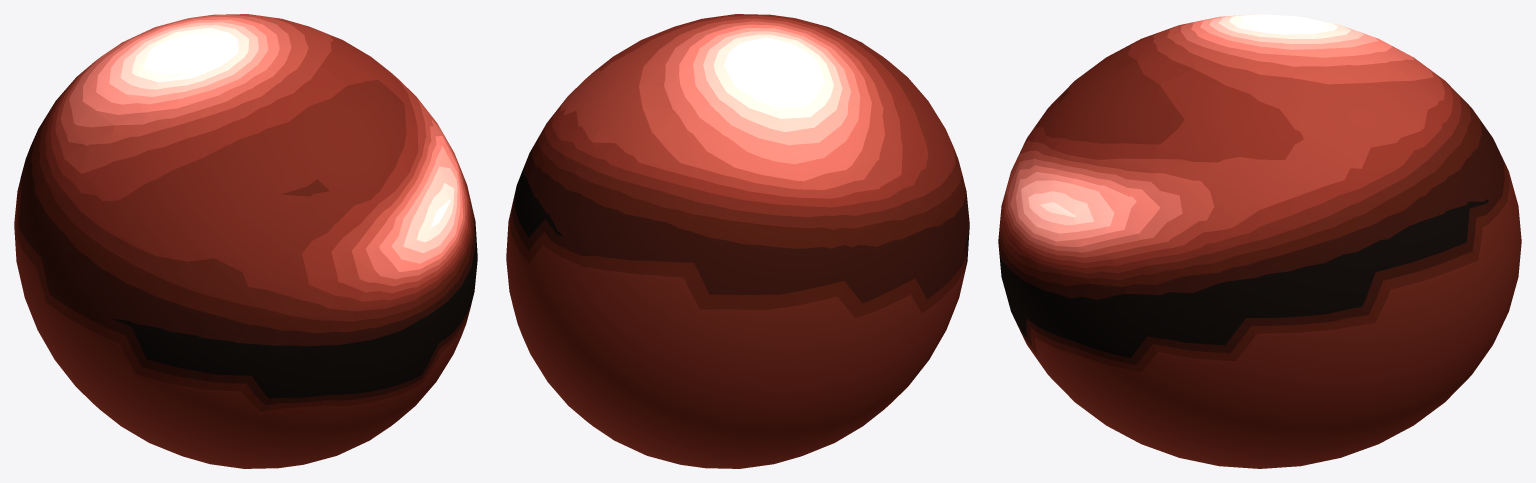
The model's file is red_ball.glb.
The picture shows the model from 3 angles, left to right: view 1: azimuth 30°, elevation 25°; view 2: azimuth 150°, elevation 25°; view 3: azimuth 270°, elevation 25°; orthographic projection.
Parts seen in each view (by area): view 1: red_ball; view 2: red_ball; view 3: red_ball.
Boxes of the visible parts, <box> form: red_ball: <box>14,14,477,468</box>; red_ball: <box>506,14,969,468</box>; red_ball: <box>998,14,1521,468</box>.
Size of the model in its own units: 12 by 12 by 13.8.
